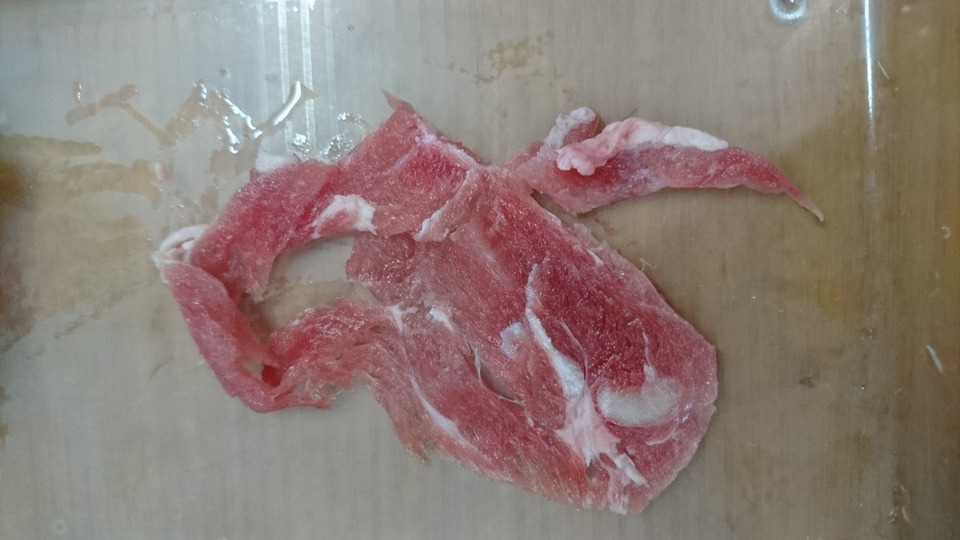restructured meat: (162, 131, 766, 513)
